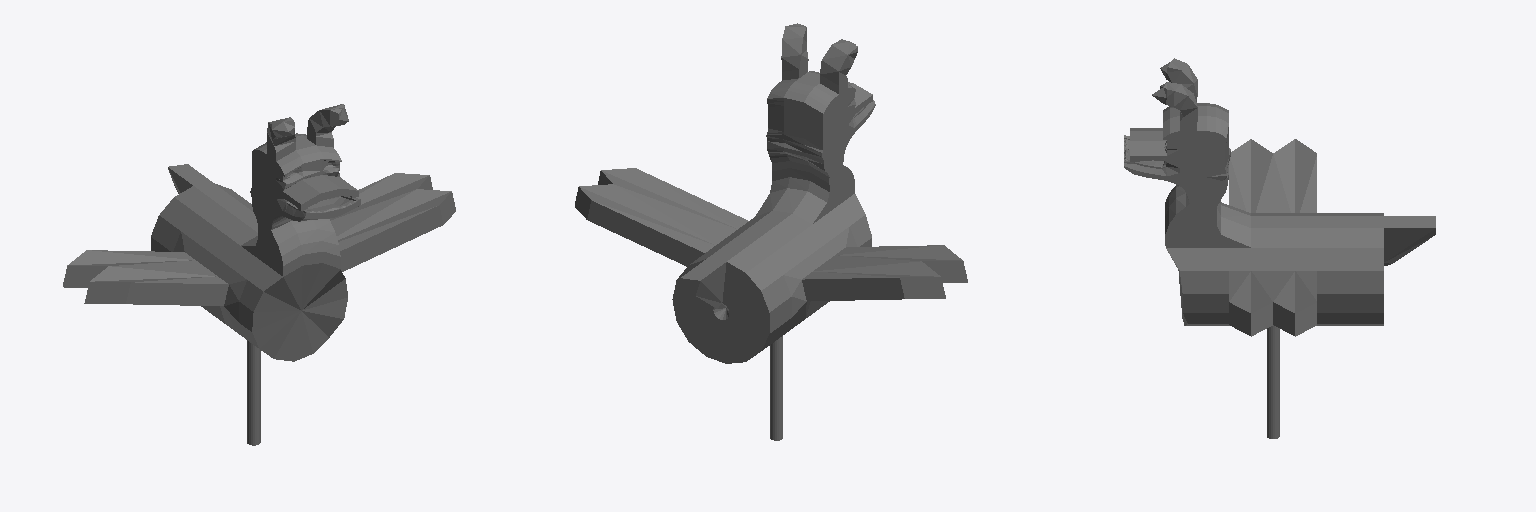
The model's file is myLittleDragon.obj.
The picture shows the model from 3 angles: view 1: azimuth 30°, elevation 25°; view 2: azimuth 150°, elevation 25°; view 3: azimuth 270°, elevation 25°; orthographic projection.
Parts seen in each view (by area): view 1: Group2; view 2: Group2; view 3: Group2.
Boxes of the visible parts, x1,y1,x2,y2 form: Group2: [63, 104, 455, 445]; Group2: [575, 23, 967, 440]; Group2: [1124, 58, 1435, 438].
Bounding box in the file's own units: 7.57 × 7.12 × 5.5.